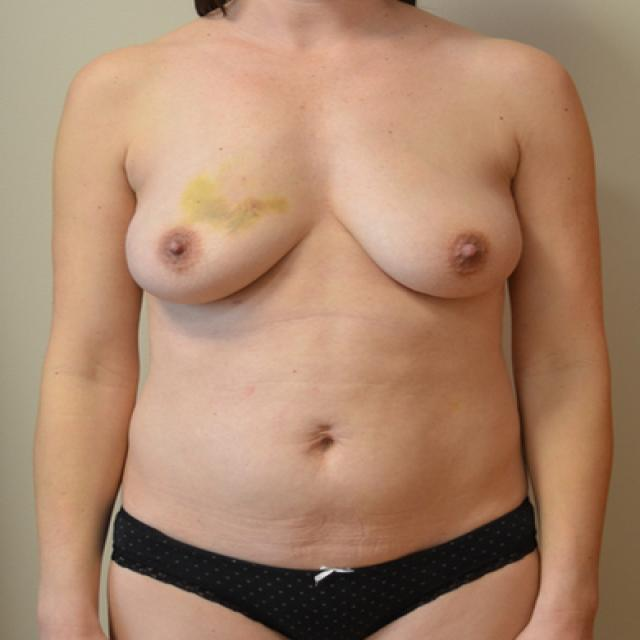Seno herido: (115, 95, 322, 325)
Seno ileso: (326, 95, 533, 325)
